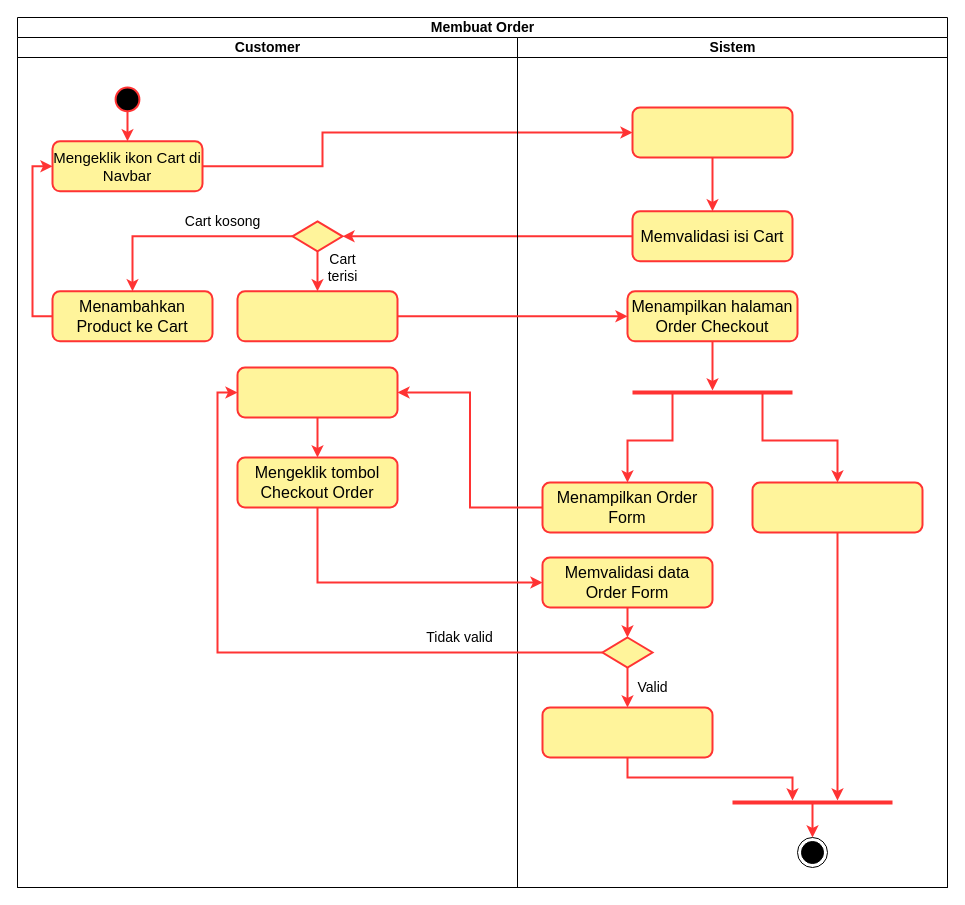
This 965x905 diagram has some shape labels left out. The centre of each missing label's shape, as x and y in pixels:
"Menampilkan halaman Cart" belongs at (x=712, y=132).
"Menampilkan ringkasan isi Cart" belongs at (x=837, y=507).
"Mengeklik tombol Make Order" belongs at (x=317, y=316).
"Mengisi Order Form" belongs at (x=317, y=392).
"Menyimpan Order" belongs at (x=627, y=732).
